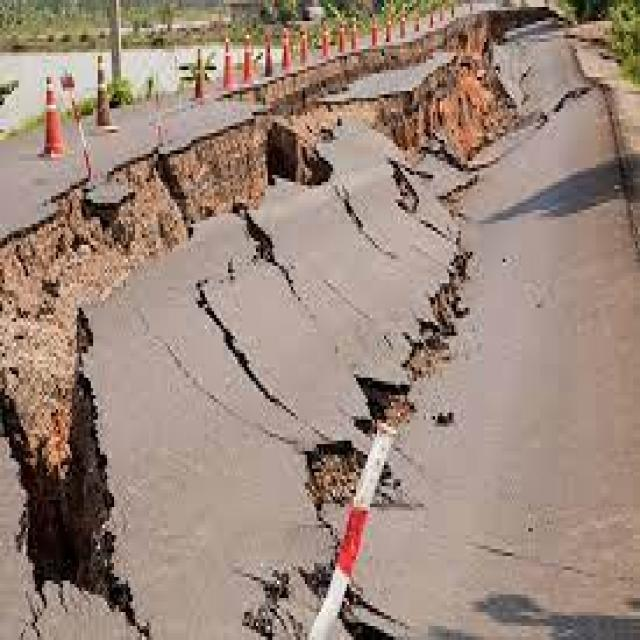Earthquake: (31, 19, 622, 609)
